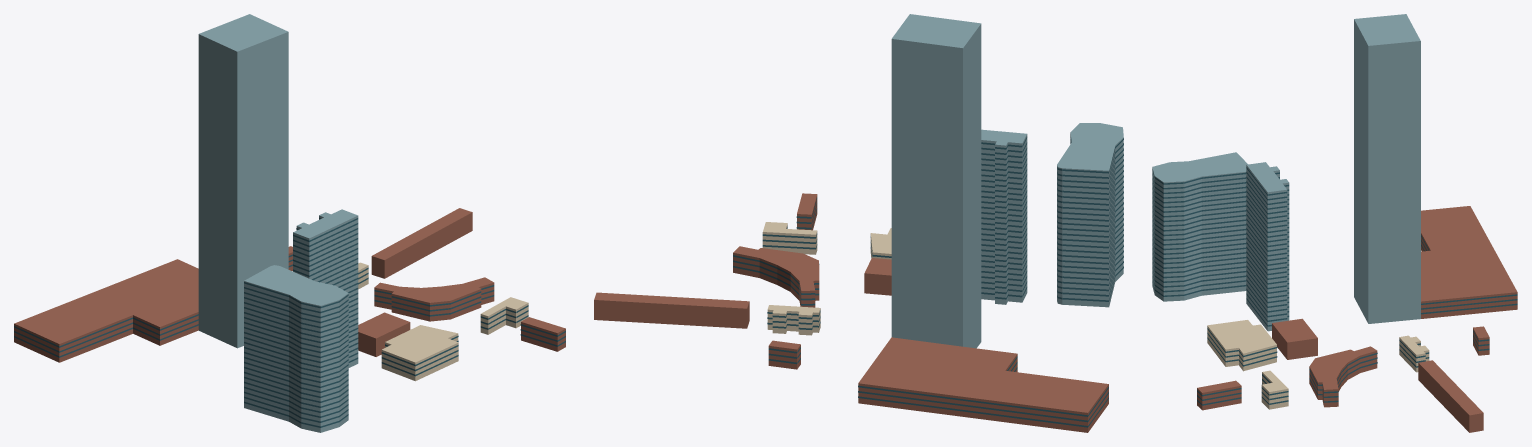
File: city_6_1.glb
The picture shows the model from 3 angles, left to right: view 1: azimuth 30°, elevation 25°; view 2: azimuth 150°, elevation 25°; view 3: azimuth 270°, elevation 25°; orthographic projection. The views are drawn at different scales.
Parts seen in each view (by area): view 1: city_6_1; view 2: city_6_1; view 3: city_6_1.
Part boxes in pixels (x1=…): city_6_1: x1=14, y1=14, x2=565, y2=432; city_6_1: x1=594, y1=14, x2=1123, y2=432; city_6_1: x1=1152, y1=14, x2=1517, y2=432.
Size of the model in its own units: 385 by 238 by 283.
